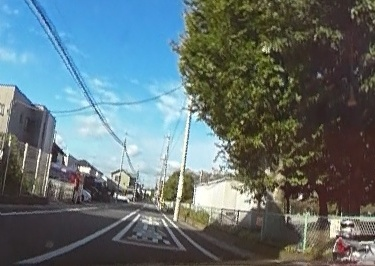person: (361, 138, 375, 266)
